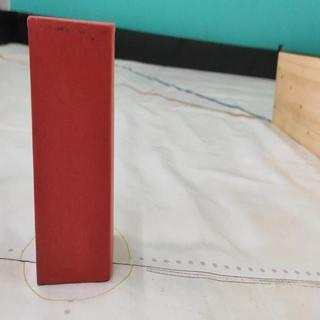redbox: (27, 13, 114, 287)
